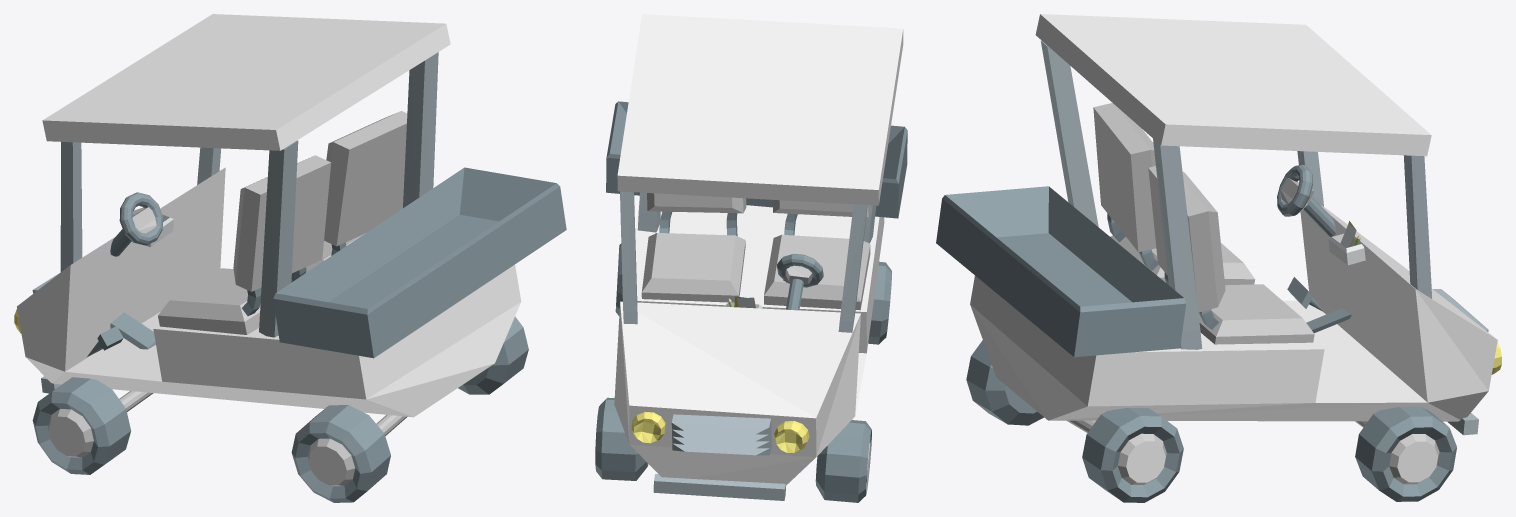
The model's file is Golf.gltf.
The picture shows the model from 3 angles, left to right: view 1: azimuth 30°, elevation 25°; view 2: azimuth 150°, elevation 25°; view 3: azimuth 270°, elevation 25°; orthographic projection. The views are drawn at different scales.
Visible parts, largest first — view 1: Mesh28 skpiT2dVs1 Model, Mesh29 skpiT2dVs1 Model, Mesh23 skpiT2dVs1 Model, Mesh30 skpiT2dVs1 Model, Mesh19 skpiT2dVs1 Model, Mesh18 skpiT2dVs1 Model, Mesh31 skpiT2dVs1 Model, Mesh8 skpiT2dVs1 Model, Mesh32 skpiT2dVs1 Model, Mesh9 skpiT2dVs1 Model, Mesh5 skpiT2dVs1 Model, Mesh20 skpiT2dVs1 Model (+3 smaller); view 2: Mesh29 skpiT2dVs1 Model, Mesh28 skpiT2dVs1 Model, Mesh36 skpiT2dVs1 Model, Mesh32 skpiT2dVs1 Model, Mesh6 skpiT2dVs1 Model, Mesh18 skpiT2dVs1 Model, Mesh23 skpiT2dVs1 Model, Mesh10 skpiT2dVs1 Model, Mesh7 skpiT2dVs1 Model, Mesh4 skpiT2dVs1 Model, Mesh5 skpiT2dVs1 Model, Mesh30 skpiT2dVs1 Model (+8 smaller); view 3: Mesh28 skpiT2dVs1 Model, Mesh29 skpiT2dVs1 Model, Mesh23 skpiT2dVs1 Model, Mesh10 skpiT2dVs1 Model, Mesh20 skpiT2dVs1 Model, Mesh31 skpiT2dVs1 Model, Mesh9 skpiT2dVs1 Model, Mesh36 skpiT2dVs1 Model, Mesh30 skpiT2dVs1 Model, Mesh8 skpiT2dVs1 Model, Mesh4 skpiT2dVs1 Model, Mesh19 skpiT2dVs1 Model (+5 smaller).
Part boxes in pixels (bbox=[...]): Mesh28 skpiT2dVs1 Model: bbox=[17, 167, 521, 417]; Mesh29 skpiT2dVs1 Model: bbox=[42, 14, 450, 150]; Mesh23 skpiT2dVs1 Model: bbox=[273, 167, 566, 358]; Mesh30 skpiT2dVs1 Model: bbox=[324, 111, 407, 246]; Mesh19 skpiT2dVs1 Model: bbox=[291, 405, 390, 502]; Mesh18 skpiT2dVs1 Model: bbox=[32, 377, 130, 474]; Mesh31 skpiT2dVs1 Model: bbox=[233, 155, 331, 291]; Mesh8 skpiT2dVs1 Model: bbox=[259, 140, 298, 337]; Mesh32 skpiT2dVs1 Model: bbox=[158, 268, 260, 334]; Mesh9 skpiT2dVs1 Model: bbox=[403, 52, 438, 207]; Mesh5 skpiT2dVs1 Model: bbox=[60, 142, 82, 272]; Mesh20 skpiT2dVs1 Model: bbox=[458, 316, 528, 394]; Mesh29 skpiT2dVs1 Model: bbox=[617, 14, 903, 205]; Mesh28 skpiT2dVs1 Model: bbox=[614, 199, 884, 485]; Mesh36 skpiT2dVs1 Model: bbox=[641, 233, 745, 302]; Mesh32 skpiT2dVs1 Model: bbox=[764, 234, 870, 310]; Mesh6 skpiT2dVs1 Model: bbox=[671, 414, 771, 455]; Mesh18 skpiT2dVs1 Model: bbox=[815, 420, 871, 502]; Mesh23 skpiT2dVs1 Model: bbox=[606, 101, 907, 218]; Mesh10 skpiT2dVs1 Model: bbox=[595, 397, 648, 480]; Mesh7 skpiT2dVs1 Model: bbox=[653, 474, 785, 500]; Mesh4 skpiT2dVs1 Model: bbox=[620, 191, 637, 324]; Mesh5 skpiT2dVs1 Model: bbox=[838, 204, 867, 332]; Mesh30 skpiT2dVs1 Model: bbox=[647, 193, 746, 213]; Mesh28 skpiT2dVs1 Model: bbox=[970, 205, 1497, 421]; Mesh29 skpiT2dVs1 Model: bbox=[1035, 14, 1431, 156]; Mesh23 skpiT2dVs1 Model: bbox=[936, 186, 1186, 357]; Mesh10 skpiT2dVs1 Model: bbox=[1355, 406, 1456, 501]; Mesh20 skpiT2dVs1 Model: bbox=[1082, 408, 1183, 502]; Mesh31 skpiT2dVs1 Model: bbox=[1093, 103, 1156, 252]; Mesh9 skpiT2dVs1 Model: bbox=[1153, 138, 1202, 349]; Mesh36 skpiT2dVs1 Model: bbox=[1198, 284, 1314, 344]; Mesh30 skpiT2dVs1 Model: bbox=[1148, 166, 1225, 312]; Mesh8 skpiT2dVs1 Model: bbox=[1041, 40, 1098, 226]; Mesh4 skpiT2dVs1 Model: bbox=[1403, 155, 1431, 298]; Mesh19 skpiT2dVs1 Model: bbox=[966, 340, 1043, 425].
Bounding box in the file's own units: 624 × 614 × 732.
